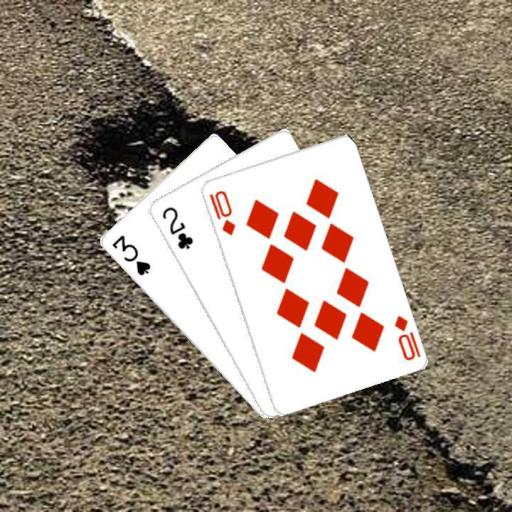10D: (390, 311, 422, 362), (205, 187, 237, 237)
2C: (158, 203, 195, 251)
3S: (108, 232, 152, 277)
